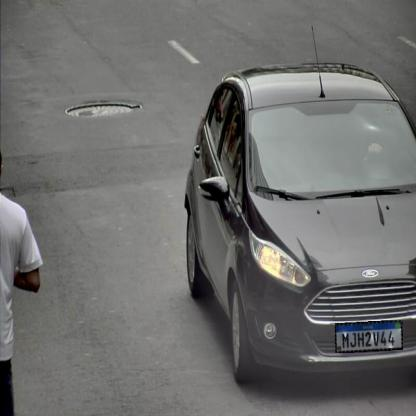PlacaM: (335, 320, 403, 353)
